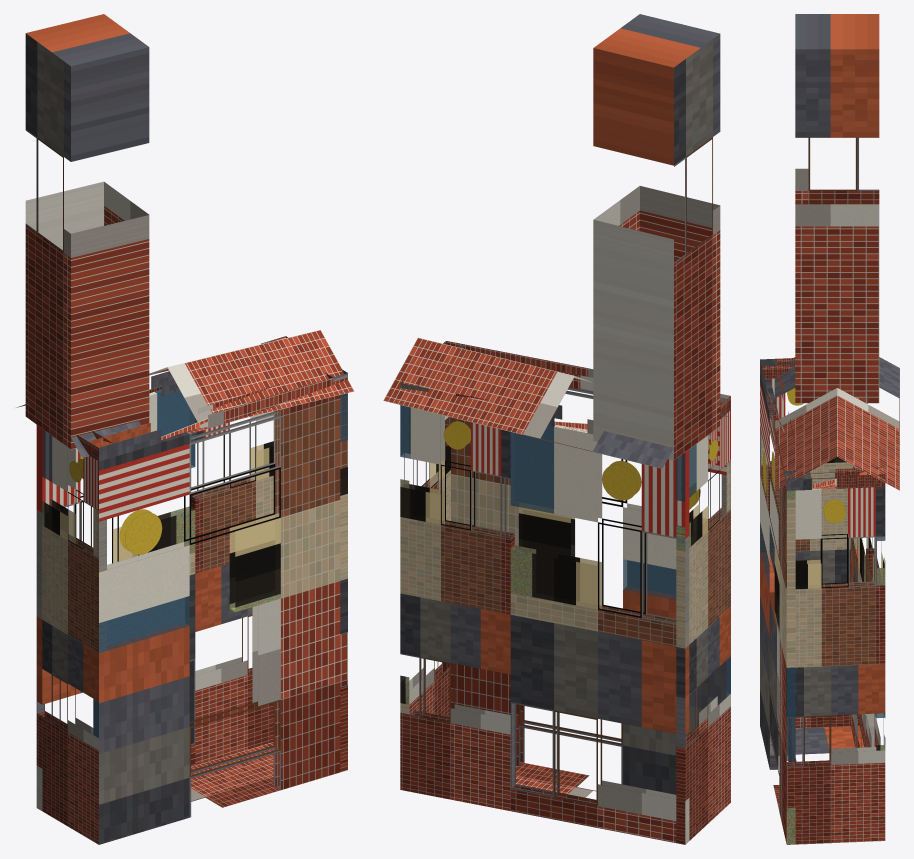
The picture shows the model from 3 angles, left to right: view 1: azimuth 30°, elevation 25°; view 2: azimuth 150°, elevation 25°; view 3: azimuth 270°, elevation 25°; orthographic projection. The views are drawn at different scales.
Visible parts, largest first — view 1: 238625190__wall_1_xb, 238625190__chimney_0_xb, 238625190__wall_0_xb, 238625190__wall_3_xb, 238625190_roof_-1_xb, 238625190__wall_4_xb, 238625190__wall_1_xf, 238625190__cornice_1, 238625190__base, 238625190__wall_4_xf, 238625190__wall_2_xb, 238625190__wall_0_xf; view 2: 238625190__chimney_0_xb, 238625190__wall_4_xb, 238625190__wall_3_xb, 238625190__wall_1_xb, 238625190__wall_0_xb, 238625190_roof_1_xb, 238625190__wall_4_xf, 238625190__wall_1_xf, 238625190__wall_2_xb, 238625190__wall_3_xf, 238625190__base, 238625190__wall_0_xf (+1 smaller); view 3: 238625190__chimney_0_xb, 238625190__wall_2_xb, 238625190__wall_1_xb, 238625190__wall_0_xb, 238625190_roof_1_xb, 238625190_roof_-1_xb, 238625190__wall_1_xf, 238625190__base, 238625190__cornice_2, 238625190__wall_4_xb, 238625190__wall_3_xb, 238625190__cornice_1 (+3 smaller).
Part boxes in pixels (box(x1,y1,x2,y2)): 238625190__wall_1_xb: box(93, 393, 347, 844); 238625190__chimney_0_xb: box(25, 14, 149, 449); 238625190__wall_0_xb: box(36, 429, 106, 844); 238625190__wall_3_xb: box(191, 411, 274, 765); 238625190_roof_-1_xb: box(71, 330, 354, 457); 238625190__wall_4_xb: box(36, 389, 195, 810); 238625190__wall_1_xf: box(93, 515, 280, 737); 238625190__cornice_1: box(89, 377, 347, 461); 238625190__base: box(191, 742, 279, 807); 238625190__wall_4_xf: box(113, 389, 194, 562); 238625190__wall_2_xb: box(340, 393, 347, 772); 238625190__wall_0_xf: box(42, 429, 75, 539); 238625190__chimney_0_xb: box(593, 14, 720, 460); 238625190__wall_4_xb: box(510, 425, 689, 844); 238625190__wall_3_xb: box(400, 405, 514, 810); 238625190__wall_1_xb: box(442, 387, 730, 794); 238625190__wall_0_xb: box(676, 410, 730, 844); 238625190_roof_1_xb: box(383, 337, 673, 468); 238625190__wall_4_xf: box(511, 426, 641, 609); 238625190__wall_1_xf: box(519, 507, 730, 696); 238625190__wall_2_xb: box(400, 407, 450, 717); 238625190__wall_3_xf: box(400, 405, 444, 524); 238625190__base: box(515, 762, 596, 797); 238625190__wall_0_xf: box(676, 445, 708, 551); 238625190__chimney_0_xb: box(795, 14, 879, 403); 238625190__wall_2_xb: box(786, 487, 885, 844); 238625190__wall_1_xb: box(760, 373, 795, 844); 238625190__wall_0_xb: box(760, 378, 859, 728); 238625190_roof_1_xb: box(837, 357, 899, 490); 238625190_roof_-1_xb: box(774, 357, 837, 490); 238625190__wall_1_xf: box(760, 491, 795, 844); 238625190__base: box(770, 726, 863, 810); 238625190__cornice_2: box(785, 467, 885, 490); 238625190__wall_4_xb: box(850, 466, 872, 747); 238625190__wall_3_xb: box(866, 537, 885, 750); 238625190__cornice_1: box(760, 358, 803, 490).
Bounding box in the file's own units: 0.5206 × 1.4 × 0.2507.
Materials: 1 (1 with a texture image).
